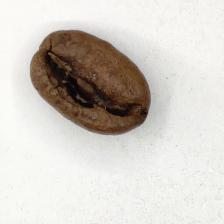NG: (48, 53, 112, 110)
